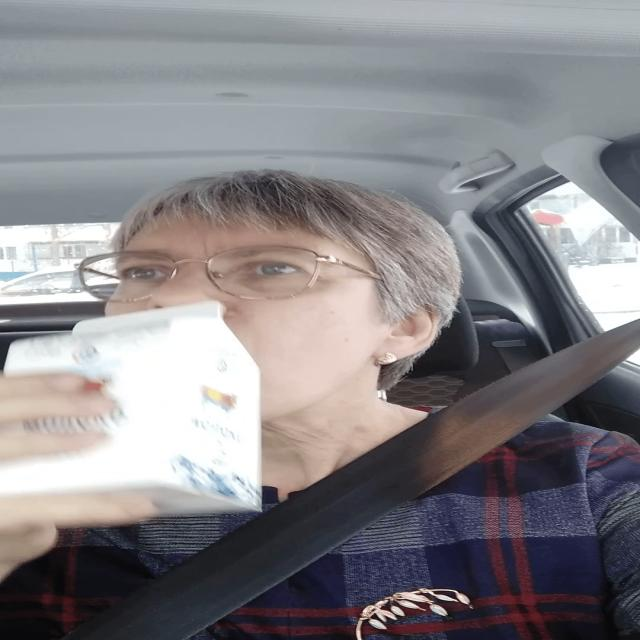3: (87, 330, 640, 634)
Seatbelt: (11, 302, 274, 526)
